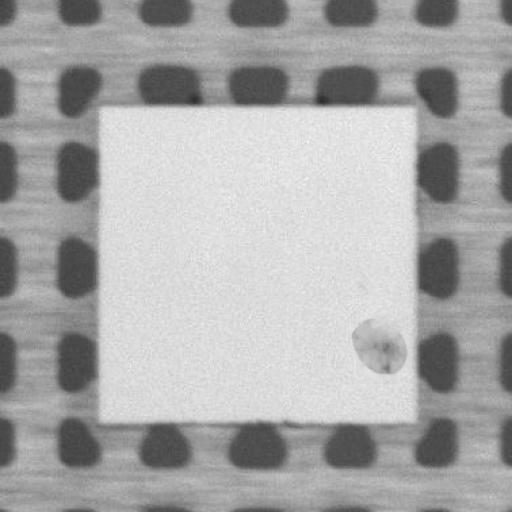DIE_INK: (350, 314, 408, 376)
